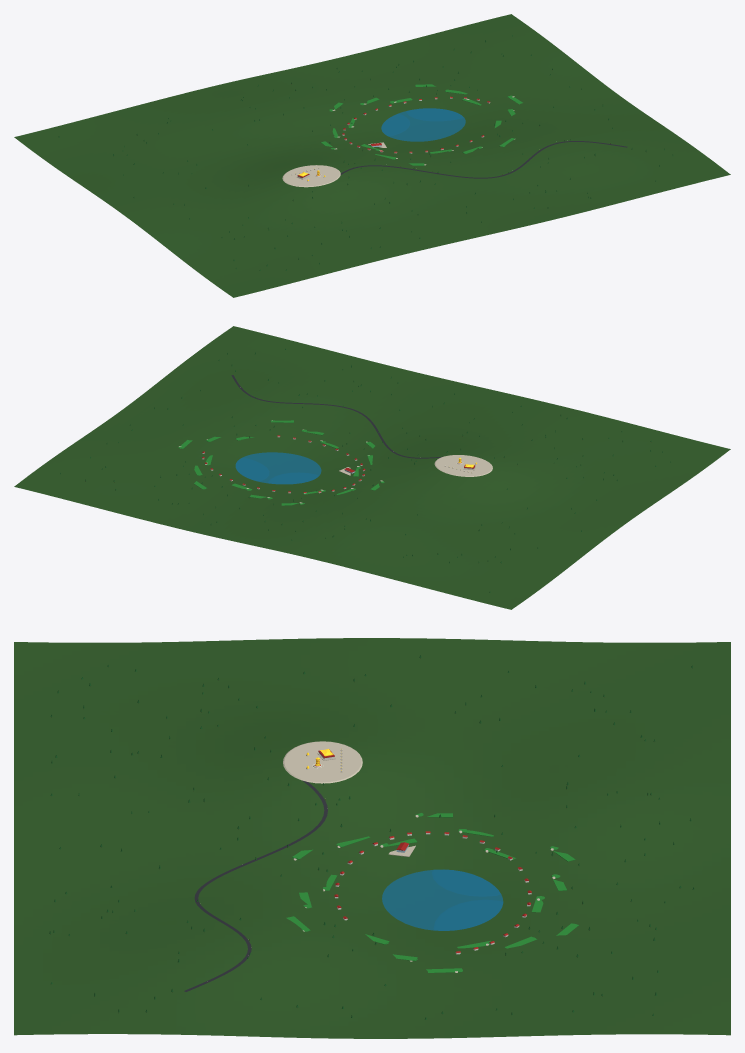
File: ring3_auto_b05_don_duong_samten_hills_37m_prayer_wheel_and_da_ron_golf_lake.glb
3 views of the same model, one above another, from view 1: azimuth 30°, elevation 25°; view 2: azimuth 150°, elevation 25°; view 3: azimuth 270°, elevation 25° (orthographic). The views are drawn at different scales.
Parts seen in each view (by area): view 1: SamtenHills_And_DaRon_Valley_Terrain, HoDaRon_Reservoir_And_Golf_Water_Hazards, Golf_White_Silica_Sand_Bunkers_And_Stone_Plazas, DalatAt1200_18Hole_Fairways_And_Bentgrass_Greens, SamtenHills_Switchback_Avenue_And_DaRon_Road, DaRon_Pine_Forest_Canopies; view 2: SamtenHills_And_DaRon_Valley_Terrain, HoDaRon_Reservoir_And_Golf_Water_Hazards, Golf_White_Silica_Sand_Bunkers_And_Stone_Plazas, DalatAt1200_18Hole_Fairways_And_Bentgrass_Greens, DaRon_Pine_Forest_Canopies; view 3: SamtenHills_And_DaRon_Valley_Terrain, HoDaRon_Reservoir_And_Golf_Water_Hazards, Golf_White_Silica_Sand_Bunkers_And_Stone_Plazas, DalatAt1200_18Hole_Fairways_And_Bentgrass_Greens, DaRon_Pine_Forest_Canopies, SamtenHills_Switchback_Avenue_And_DaRon_Road.
Part boxes in pixels (x1,y1,x2,y2): SamtenHills_And_DaRon_Valley_Terrain: [14, 14, 730, 297]; HoDaRon_Reservoir_And_Golf_Water_Hazards: [381, 108, 465, 141]; Golf_White_Silica_Sand_Bunkers_And_Stone_Plazas: [282, 96, 514, 187]; DalatAt1200_18Hole_Fairways_And_Bentgrass_Greens: [321, 84, 522, 165]; SamtenHills_Switchback_Avenue_And_DaRon_Road: [340, 141, 627, 178]; DaRon_Pine_Forest_Canopies: [58, 35, 673, 270]; SamtenHills_And_DaRon_Valley_Terrain: [14, 326, 730, 609]; HoDaRon_Reservoir_And_Golf_Water_Hazards: [235, 452, 321, 484]; Golf_White_Silica_Sand_Bunkers_And_Stone_Plazas: [179, 420, 492, 503]; DalatAt1200_18Hole_Fairways_And_Bentgrass_Greens: [178, 420, 384, 505]; DaRon_Pine_Forest_Canopies: [60, 348, 670, 592]; SamtenHills_And_DaRon_Valley_Terrain: [14, 638, 730, 1038]; HoDaRon_Reservoir_And_Golf_Water_Hazards: [382, 869, 503, 930]; Golf_White_Silica_Sand_Bunkers_And_Stone_Plazas: [283, 741, 555, 972]; DalatAt1200_18Hole_Fairways_And_Bentgrass_Greens: [286, 813, 578, 972]; DaRon_Pine_Forest_Canopies: [49, 655, 694, 1019]; SamtenHills_Switchback_Avenue_And_DaRon_Road: [184, 780, 327, 991].
Size of the model in its own units: 3400 by 127 by 2600.
